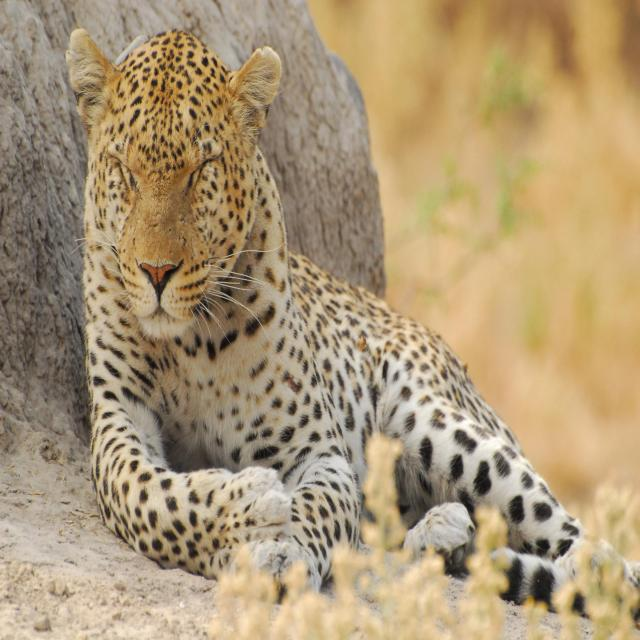Leopard: (47, 73, 640, 623)
